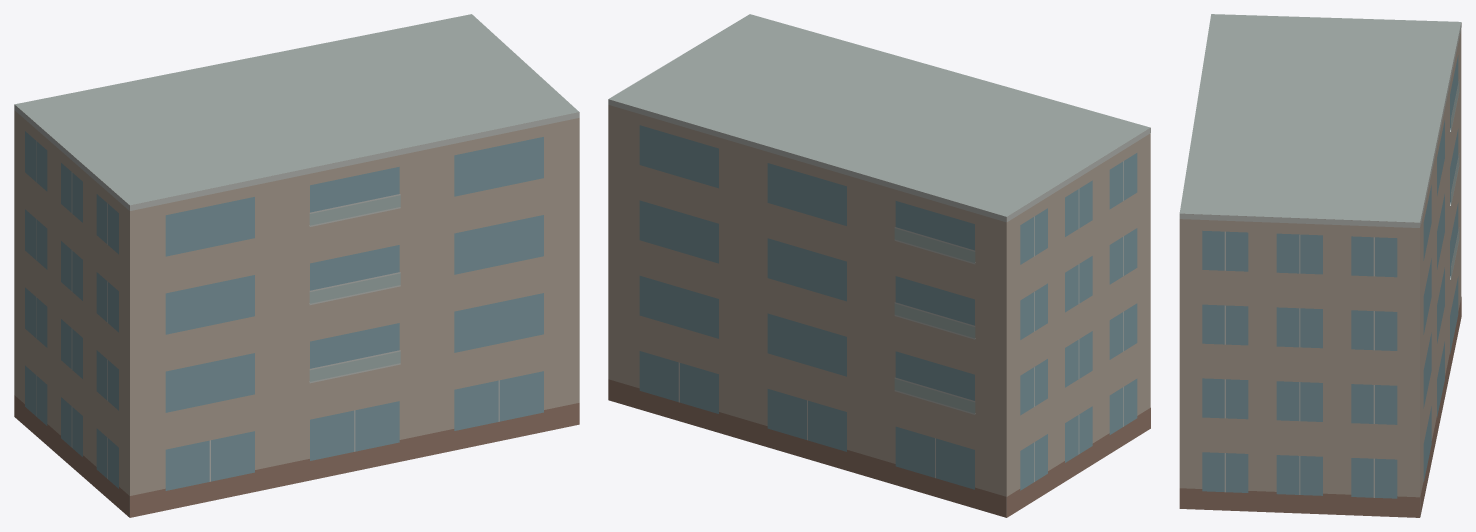
Rendered from survey-upis-32637745.glb.
The picture shows the model from 3 angles, left to right: view 1: azimuth 30°, elevation 25°; view 2: azimuth 150°, elevation 25°; view 3: azimuth 270°, elevation 25°; orthographic projection. The views are drawn at different scales.
Parts seen in each view (by area): view 1: survey-upis-32637745.tmp; view 2: survey-upis-32637745.tmp; view 3: survey-upis-32637745.tmp.
Part boxes in pixels (bbox=[...]): survey-upis-32637745.tmp: bbox=[14, 14, 579, 517]; survey-upis-32637745.tmp: bbox=[608, 14, 1150, 517]; survey-upis-32637745.tmp: bbox=[1179, 14, 1461, 517].
Bounding box in the file's own units: 20.02 × 13.2 × 11.43.
